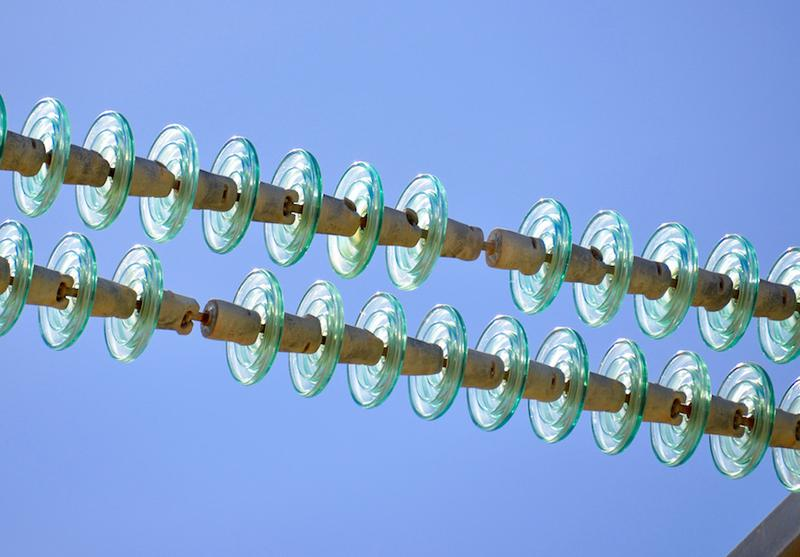gap: (383, 170, 572, 316), (103, 242, 285, 387)
isolator: (1, 93, 800, 494)
